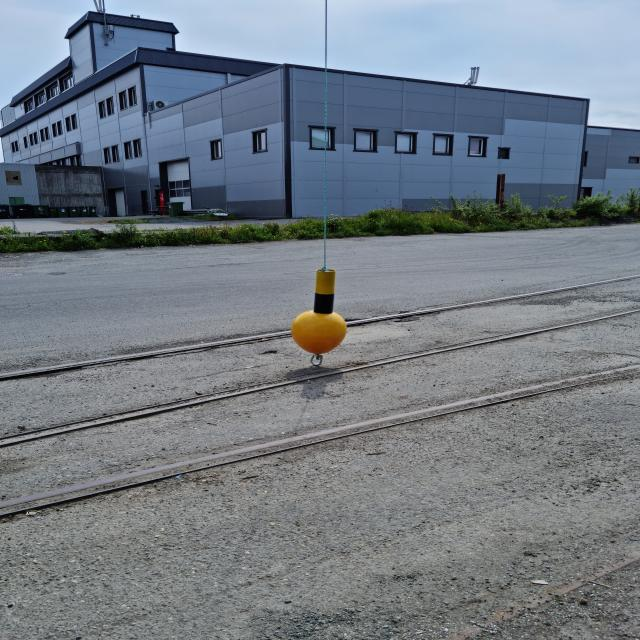west: (291, 268, 350, 353)
